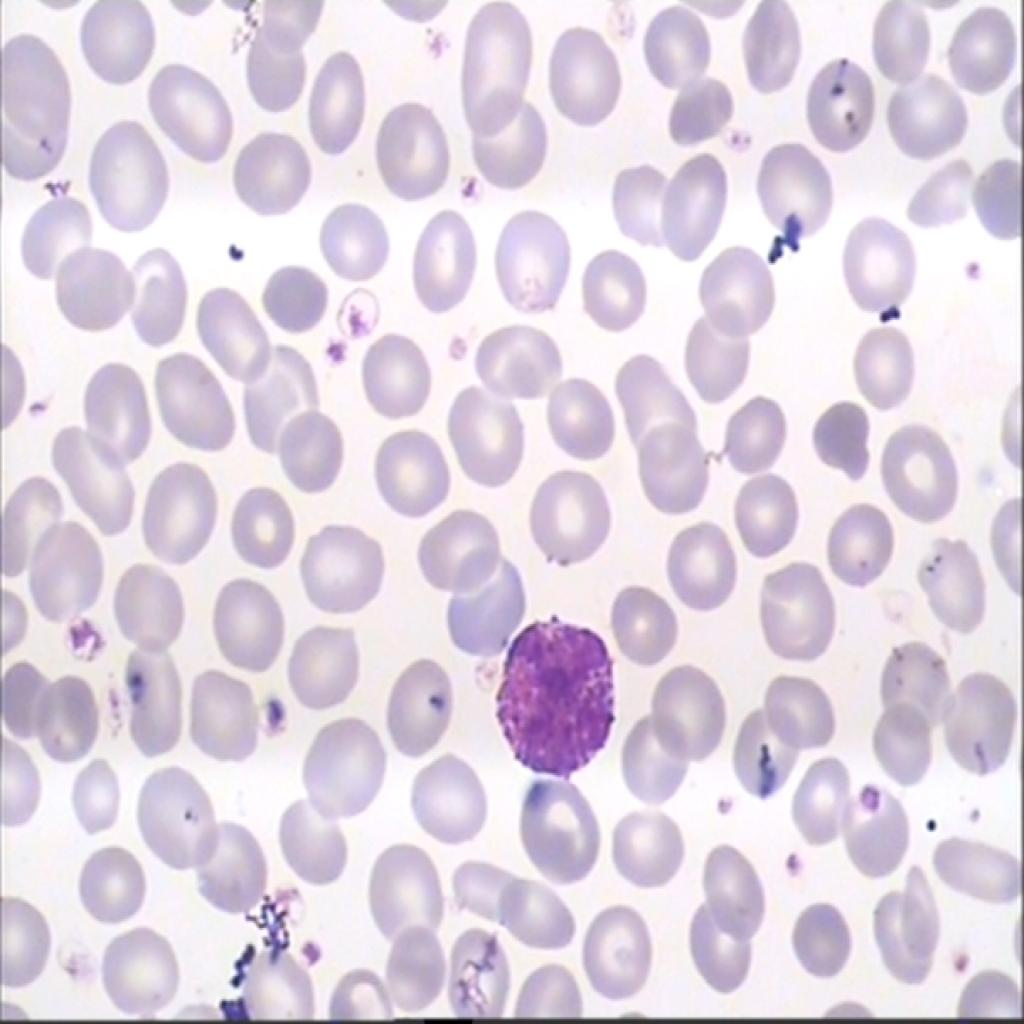Basofil: (478, 596, 627, 796)
Platelet: (854, 770, 894, 830), (253, 693, 296, 745), (707, 777, 749, 825), (68, 614, 110, 660), (953, 238, 984, 299), (434, 329, 475, 373), (334, 304, 380, 340), (300, 930, 330, 981), (774, 832, 806, 878), (326, 331, 352, 377), (943, 940, 971, 982), (428, 18, 451, 58), (728, 119, 748, 153), (460, 167, 474, 201)
